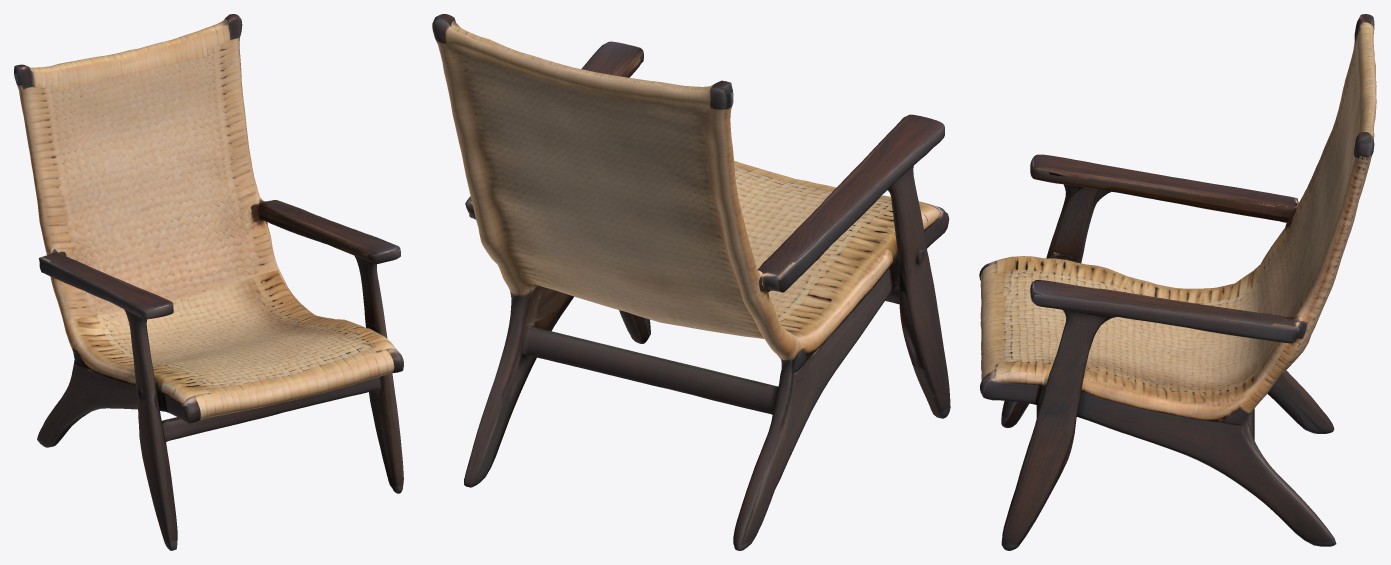
File: woven_lounge_chair.glb
3 renders of one model, left to right at view 1: azimuth 30°, elevation 25°; view 2: azimuth 150°, elevation 25°; view 3: azimuth 270°, elevation 25°, orthographic. The views are drawn at different scales.
Visible parts, largest first — view 1: Object_4; view 2: Object_4; view 3: Object_4.
Part boxes in pixels (x1=…): Object_4: x1=14, y1=14, x2=403, y2=550; Object_4: x1=432, y1=14, x2=950, y2=550; Object_4: x1=979, y1=14, x2=1376, y2=550.
Bounding box in the file's own units: 1.48 × 2 × 1.73.
Materials: 1 (1 with a texture image).
